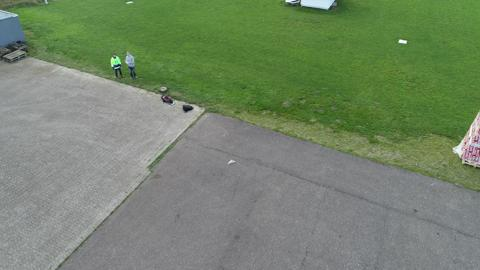RockwoolPallet: (459, 109, 480, 169)
